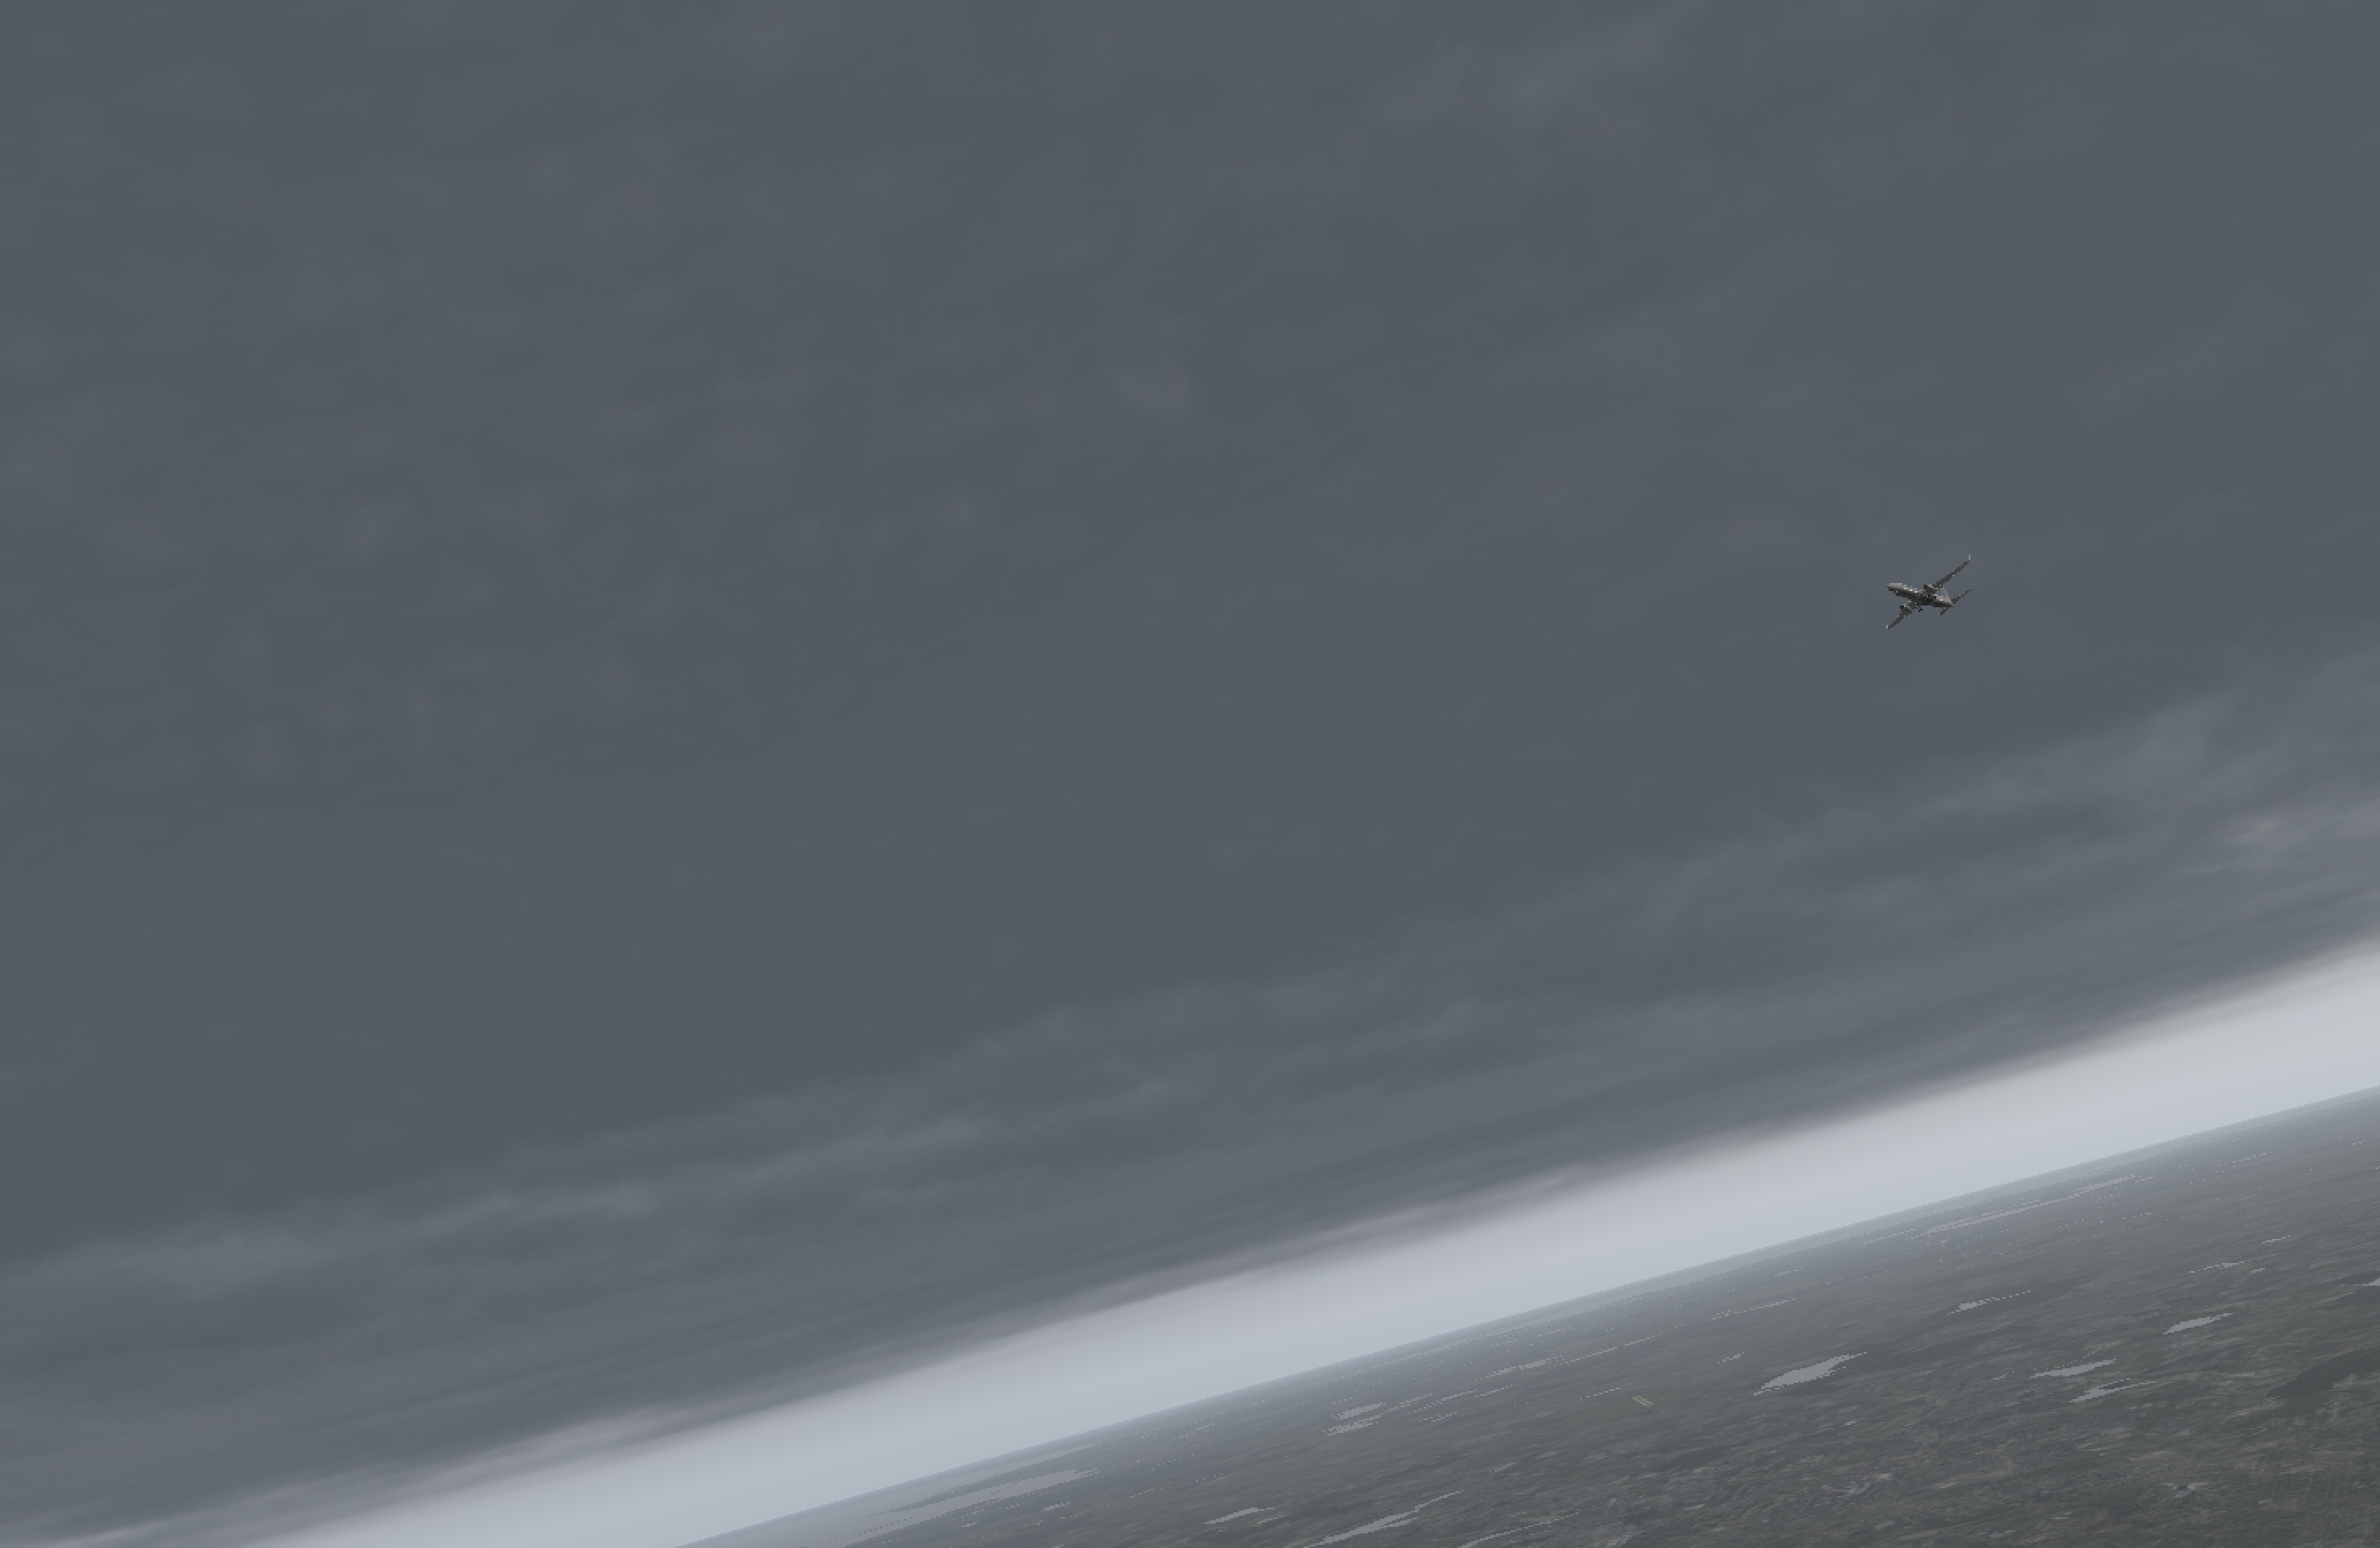aircraft: (1861, 576, 1979, 620)
